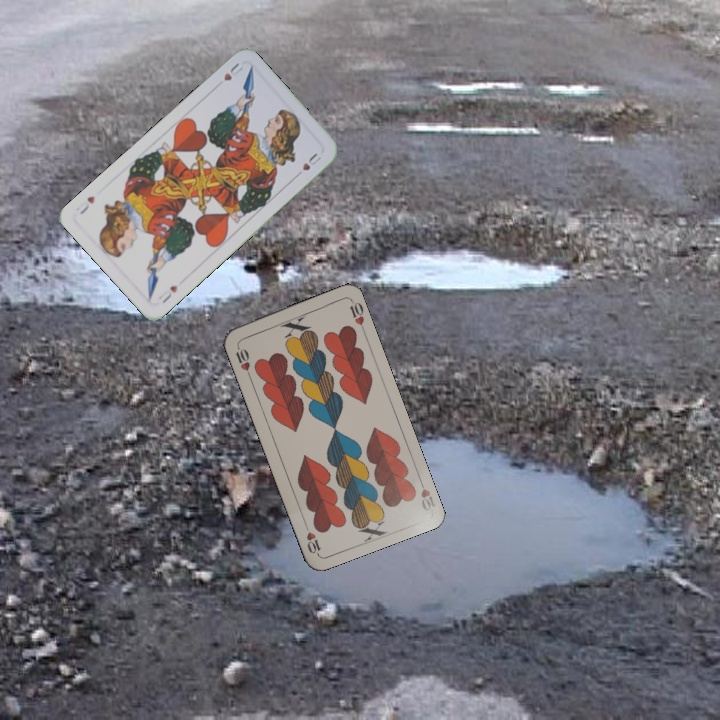H10: (415, 473, 438, 514), (231, 341, 253, 380)
HU: (219, 59, 246, 83), (158, 281, 181, 306)
